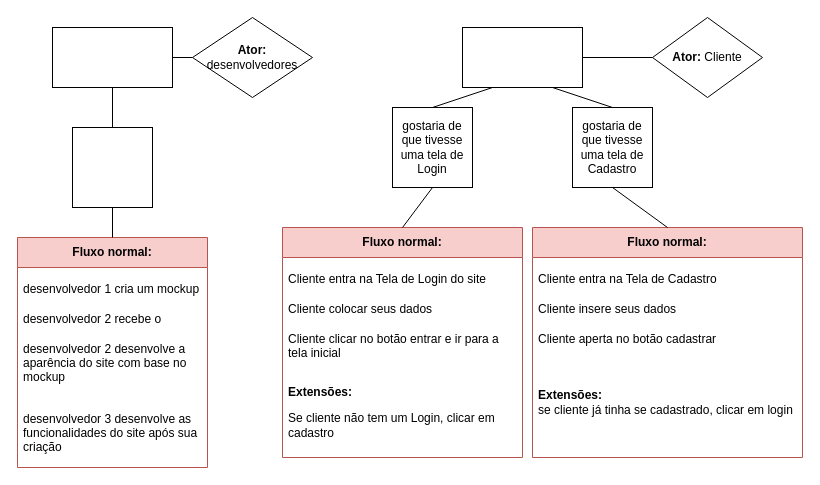
The diagram is 820 pixels wide and 485 high, and some of its shapes have lost their labels. The centre of each missing label's shape, as x and y in pixels:
"COMO CLIENTE" goes at (522,57).
"COMO DESENVOLVEDOR DO SITE" goes at (112,57).
"gostaria de um mockup para ele." goes at (112,167).
